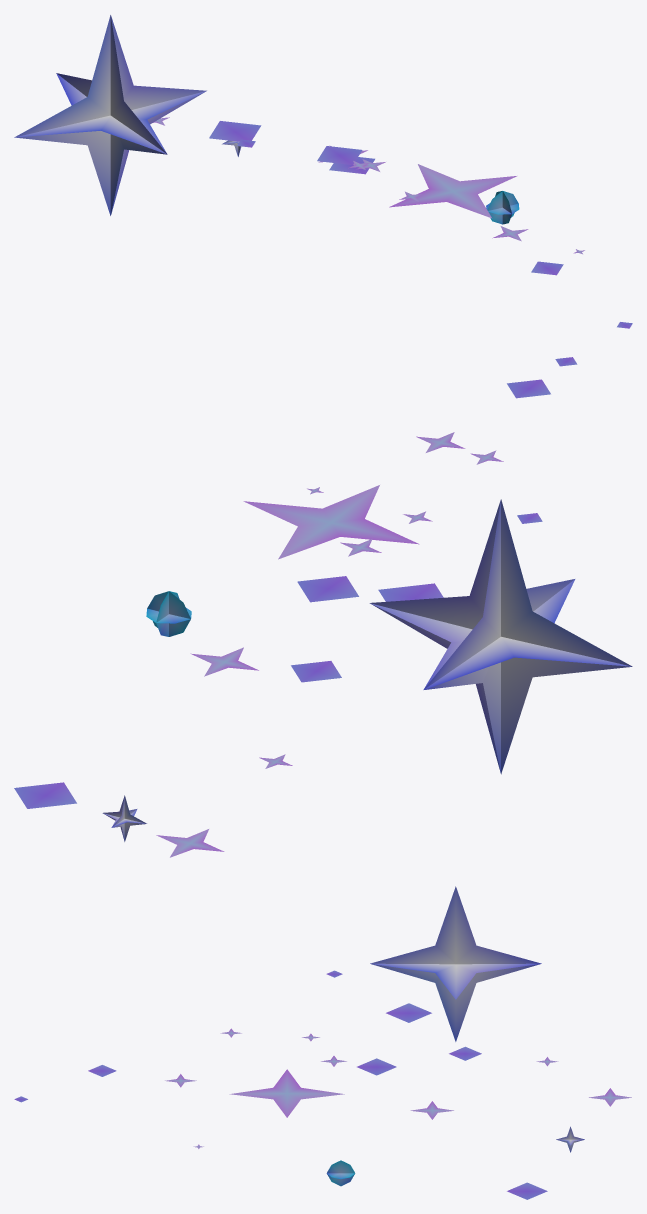
3 renders of one model, top to bottom at view 1: azimuth 30°, elevation 25°; view 2: azimuth 150°, elevation 25°; view 3: azimuth 270°, elevation 25°, orthographic. The views are drawn at different scales.
Parts seen in each view (by area): view 1: starcloud230; view 2: starcloud230; view 3: starcloud230.
Boxes of the visible parts, box(x1,y1,x2,y2) form: starcloud230: box(14, 15, 632, 328); starcloud230: box(14, 357, 632, 857); starcloud230: box(14, 886, 631, 1199).
Bounding box in the file's own units: 0.3105 × 0.1752 × 0.5.
